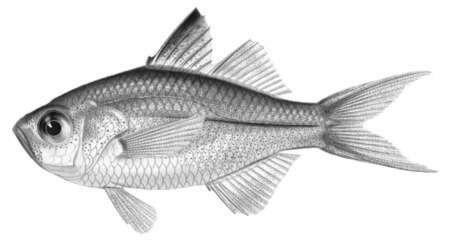Glass Perchlet: (13, 9, 439, 233)
